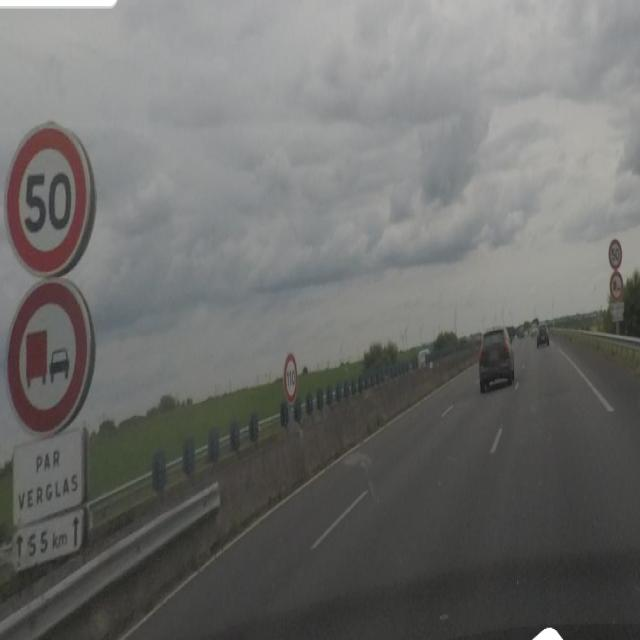speed_110: (284, 355, 297, 405)
speed_50: (6, 128, 90, 273)
